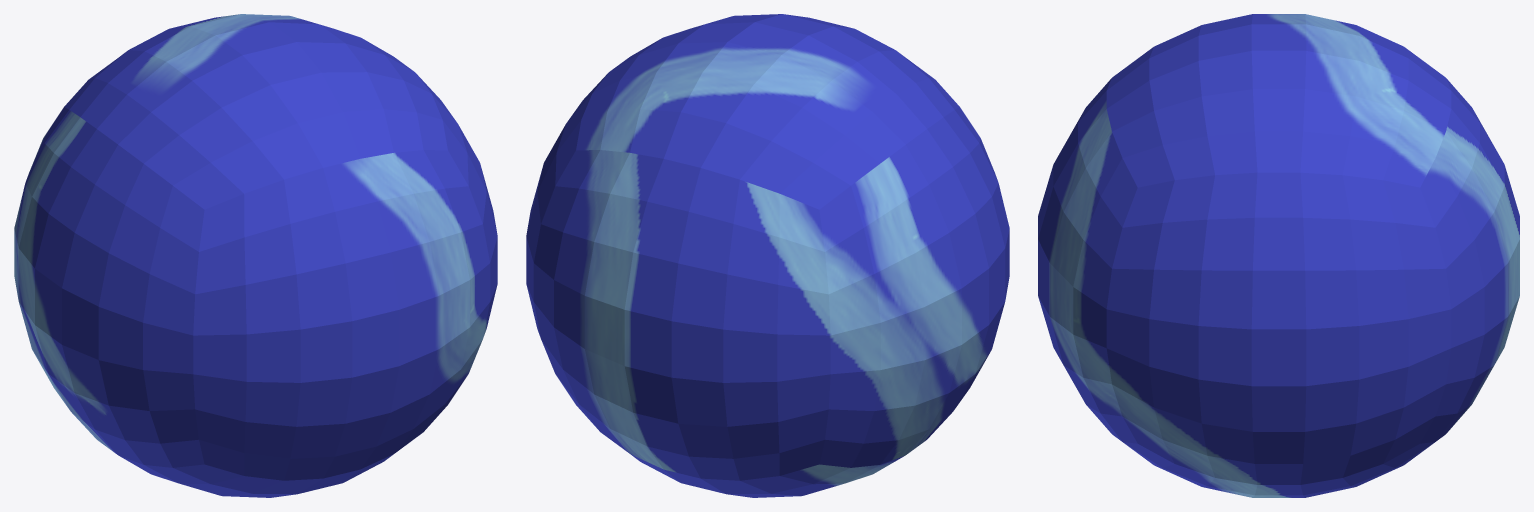
Rendered from energy_beam.gltf.
3 renders of one model, left to right at view 1: azimuth 30°, elevation 25°; view 2: azimuth 150°, elevation 25°; view 3: azimuth 270°, elevation 25°, orthographic.
Visible parts, largest first — view 1: Cube; view 2: Cube; view 3: Cube.
Part boxes in pixels (x1,y1,x2,y2): Cube: [14, 14, 497, 497]; Cube: [526, 14, 1009, 497]; Cube: [1038, 14, 1519, 497].
Size of the model in its own units: 3.41 by 3.41 by 3.41.
1 material, 1 textured.
